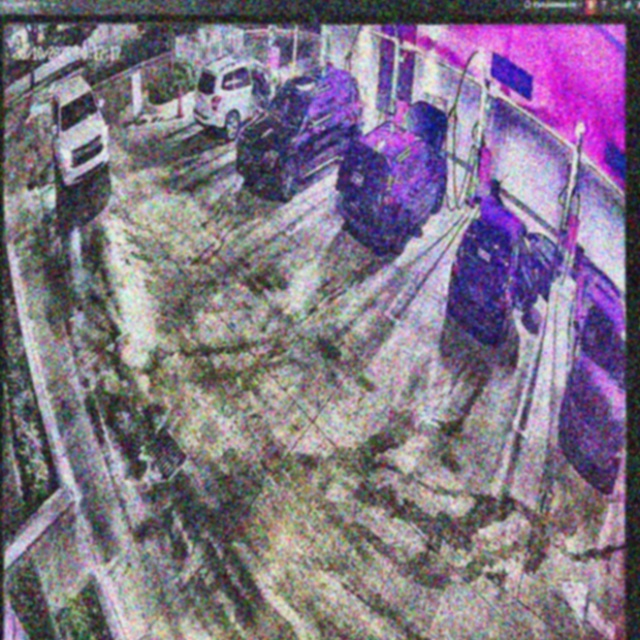Car: (235, 67, 362, 199), (450, 201, 560, 349), (342, 100, 446, 248)
